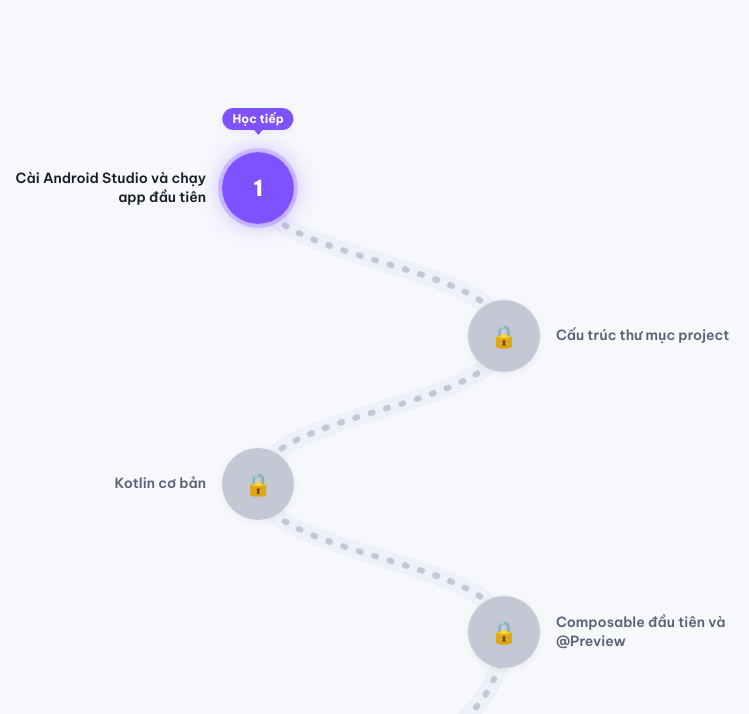
Test: RoadmapMap › shows a toast when a locked station is clicked
The image size is (749, 714).
Click the button named "Bài 4:": (504, 632) x1=468 y1=596 x2=540 y2=668
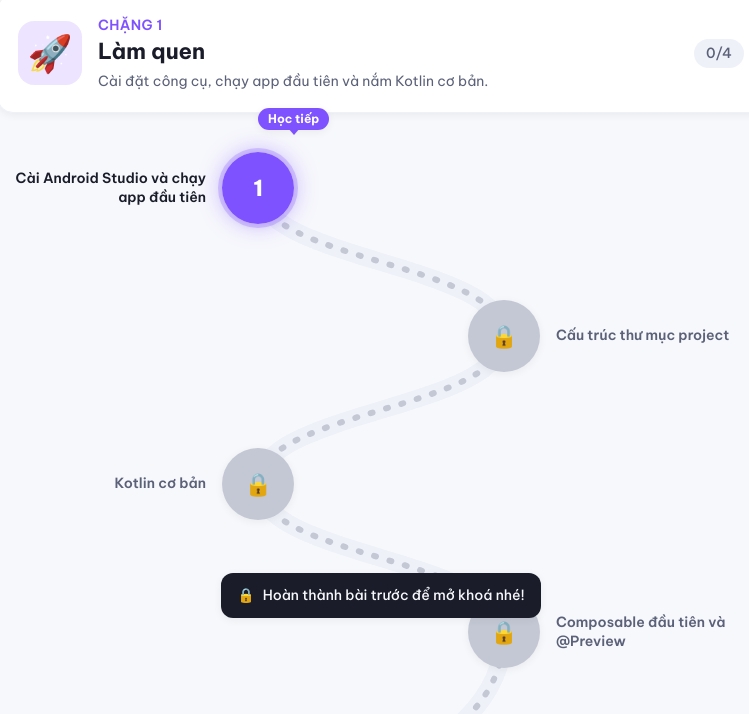
Now the message shows "Hoàn thành bài trước để mở khoá nhé!", box x1=221 y1=573 x2=541 y2=618
